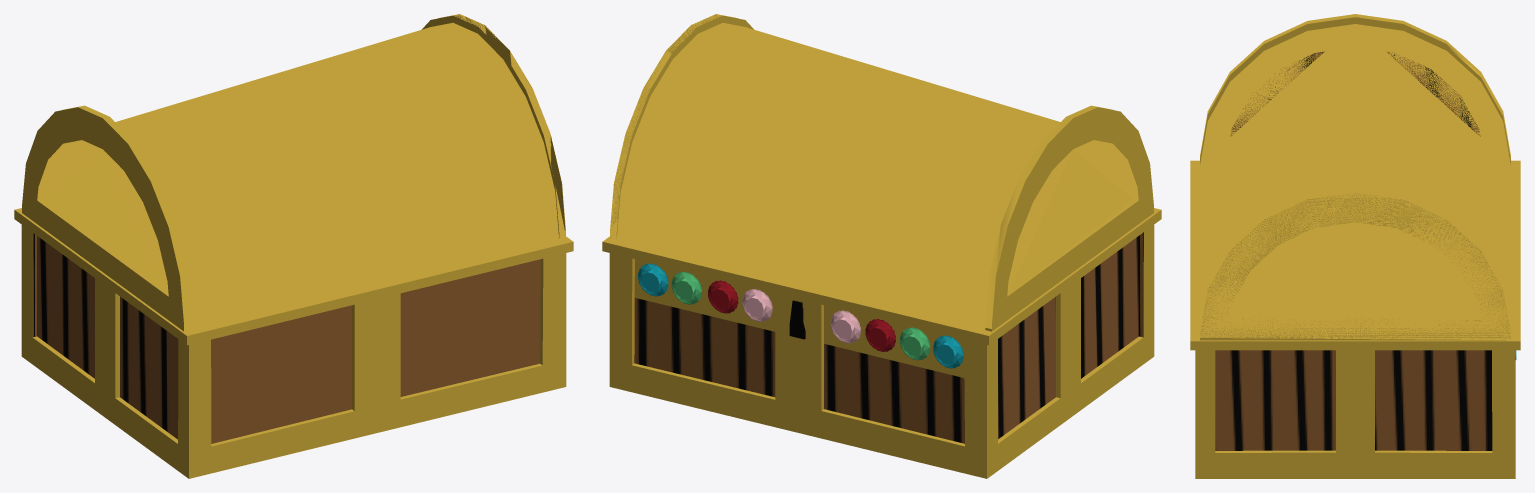
Rendered from FinalFeatureAsset.fbx.
The picture shows the model from 3 angles, left to right: view 1: azimuth 30°, elevation 25°; view 2: azimuth 150°, elevation 25°; view 3: azimuth 270°, elevation 25°; orthographic projection. The views are drawn at different scales.
Visible parts, largest first — view 1: polySurface262; view 2: polySurface262; view 3: polySurface262.
Boxes of the visible parts, bbox=[...] form: polySurface262: bbox=[14, 14, 573, 478]; polySurface262: bbox=[602, 14, 1161, 478]; polySurface262: bbox=[1190, 14, 1520, 478].
Bounding box in the file's own units: 171 × 127 × 132.
